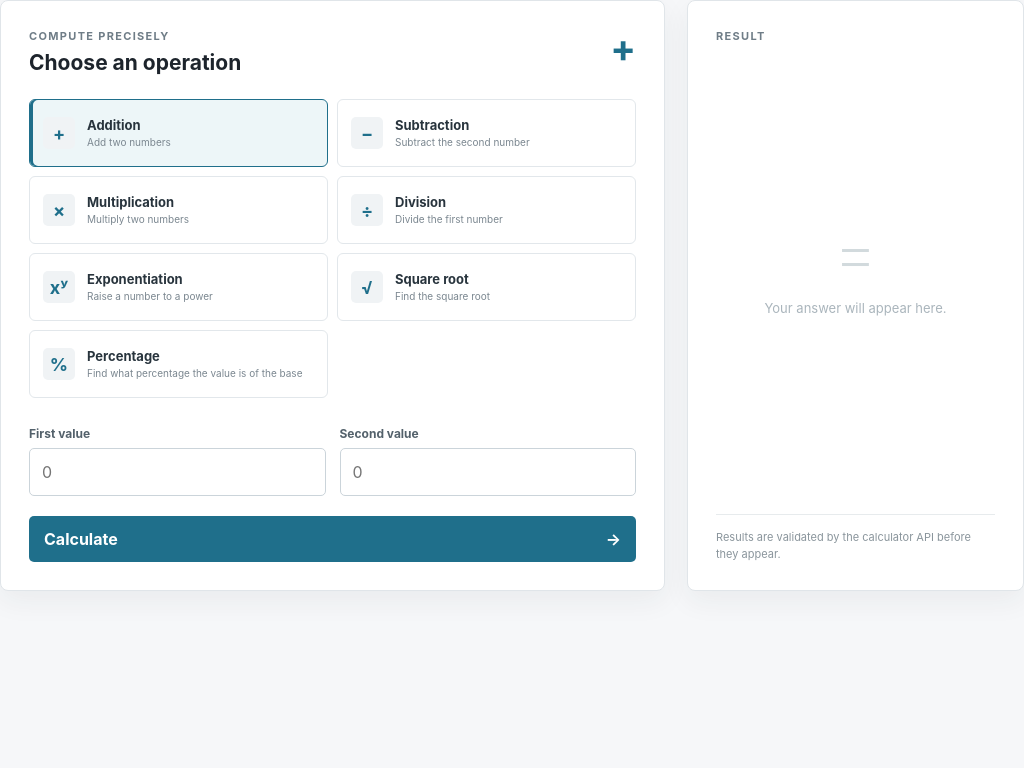
Test: Calculator › supports square root with one operand
This screenshot has width=1024, height=768.
Step 1. Click the button "√ Square root Find the square root" → click(367, 287), box [337, 253, 636, 321]
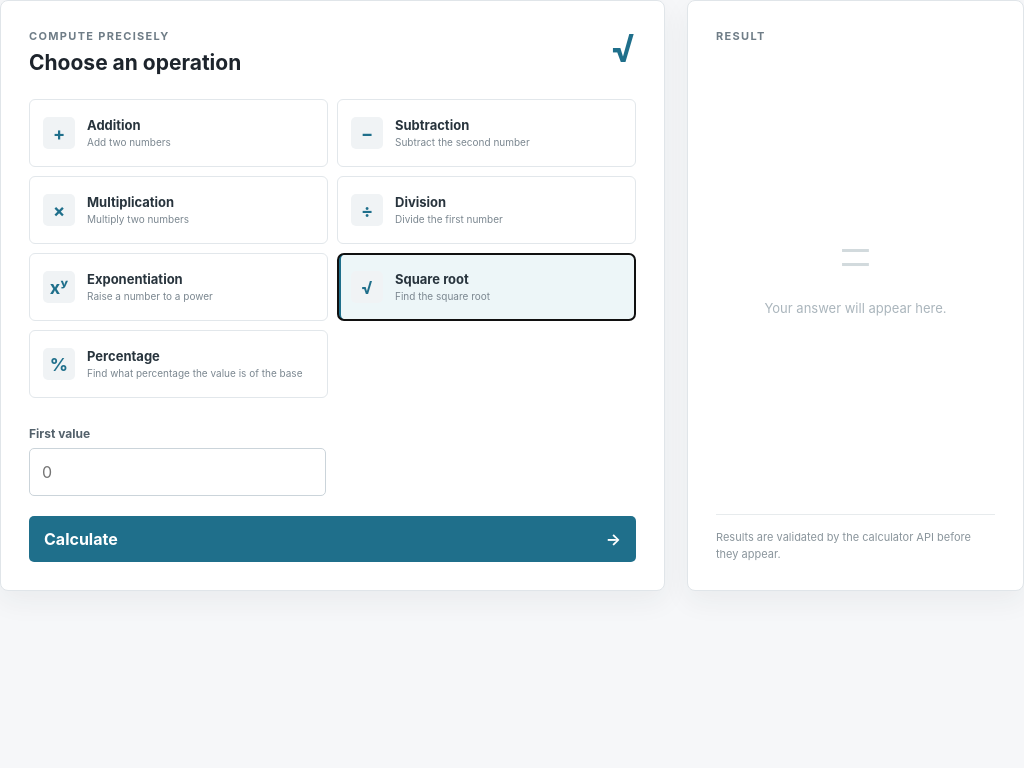
Now the text labelled "Second value" is gone
Step 2. Type "16" into the number field labelled "First value" → (177, 472), box [29, 448, 326, 496]
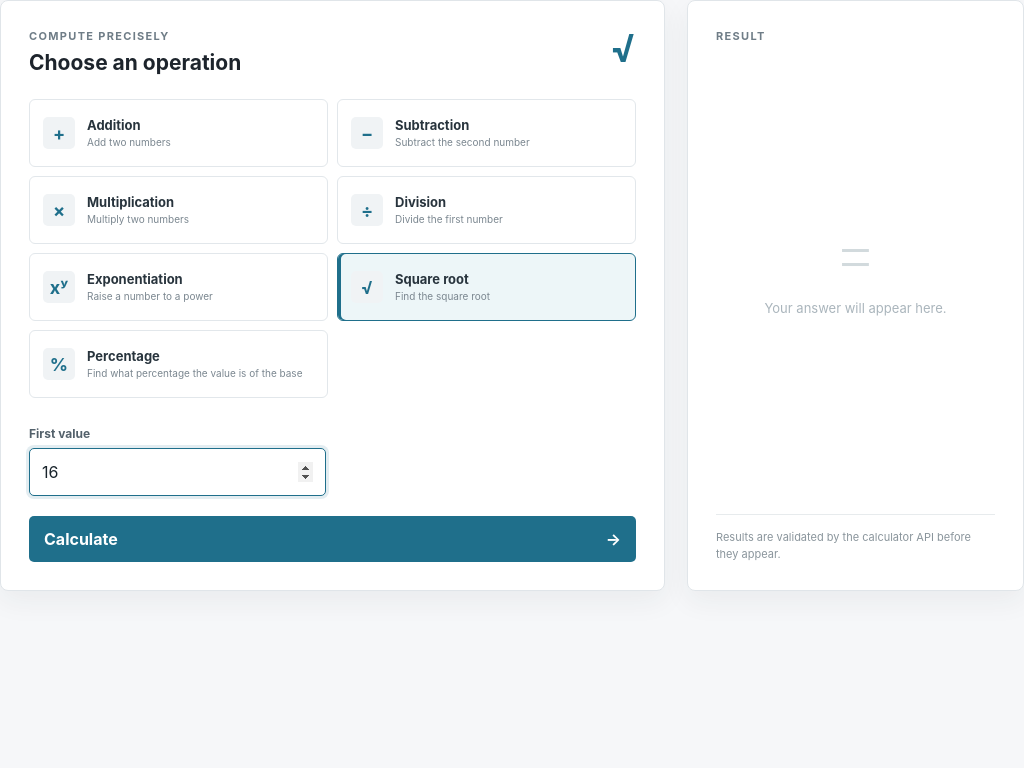
Step 3. Click the button "Calculate →" → click(81, 539), box [29, 516, 636, 562]
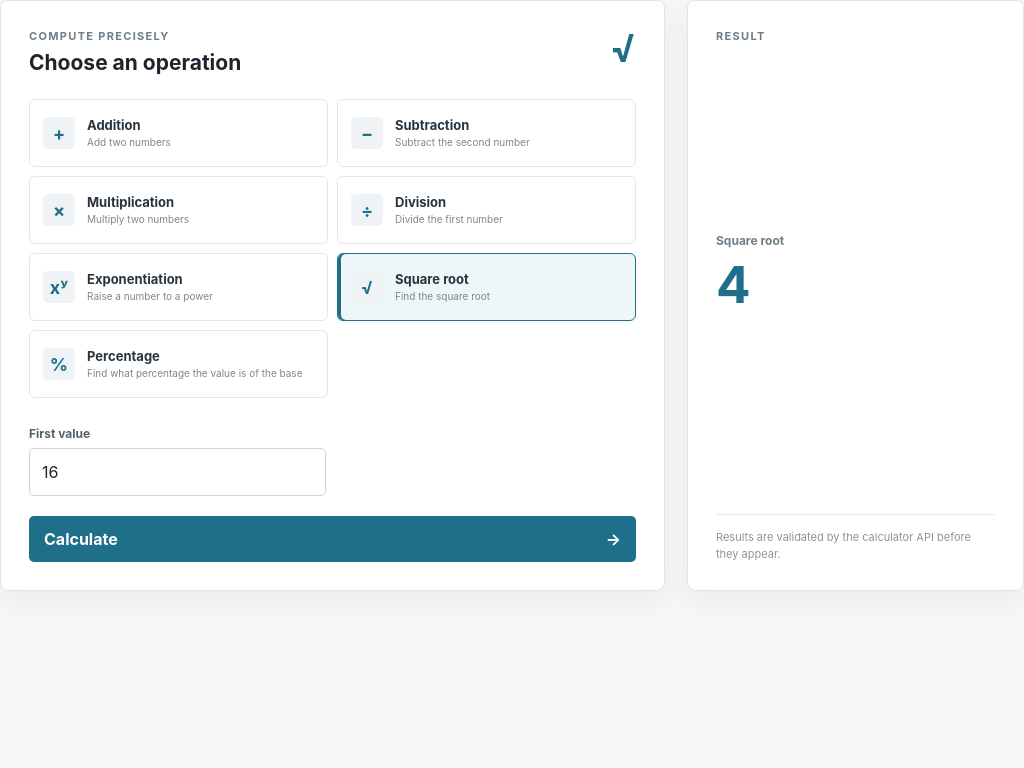
Now the text "4" is shown, box [716, 253, 751, 315]
